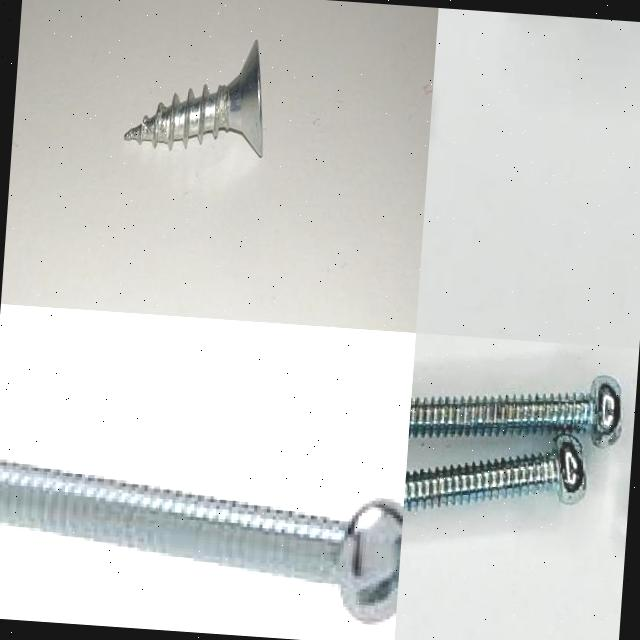Screw: (0, 457, 403, 626), (123, 38, 262, 155), (408, 374, 620, 446), (403, 433, 586, 511)
